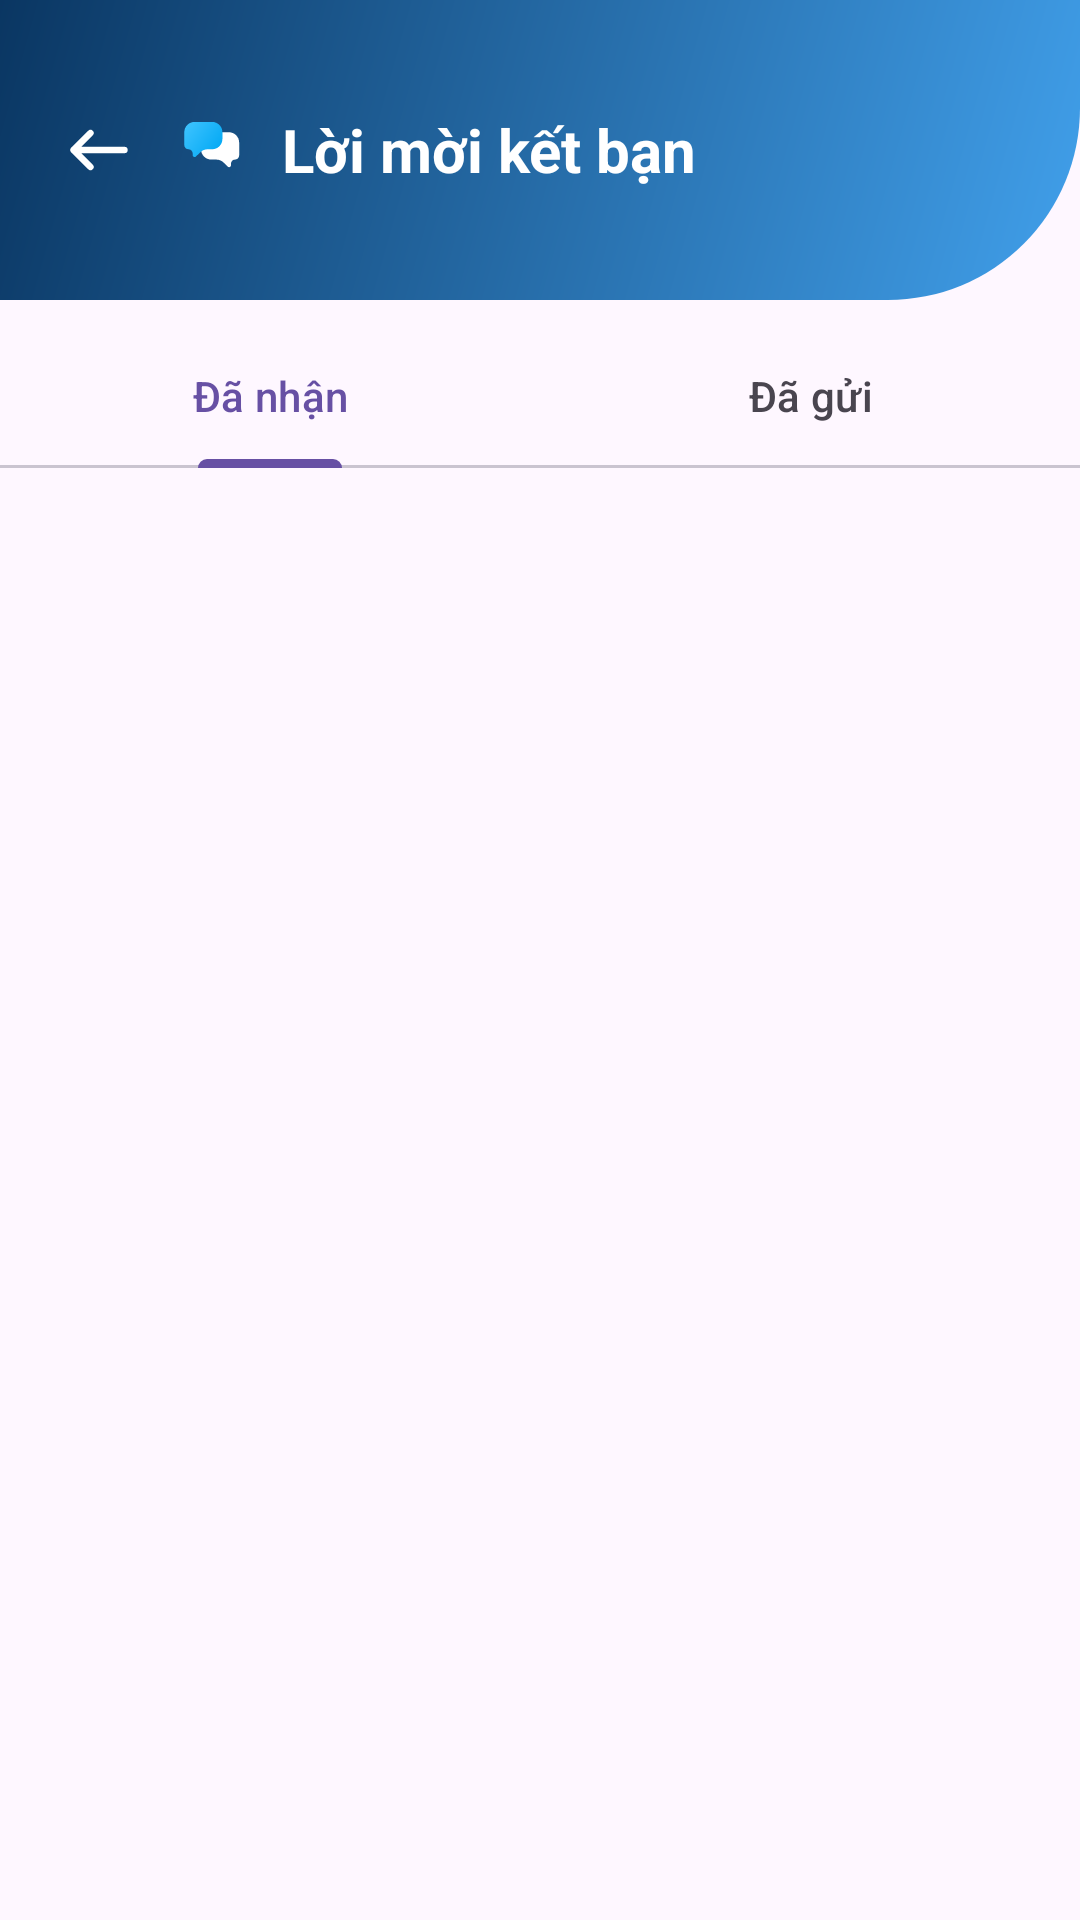

Screen size 1080px x 1920px. Icon name, then its center in pixels as (x,y):
Back: (99,150)
